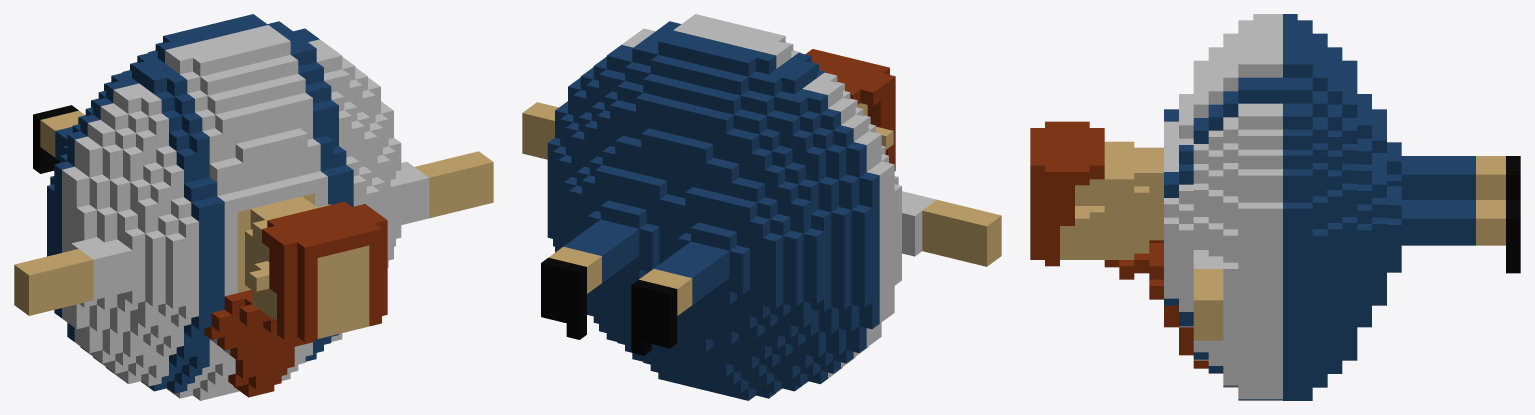
The model's file is bartender.fbx.
3 views of the same model, side by side, from view 1: azimuth 30°, elevation 25°; view 2: azimuth 150°, elevation 25°; view 3: azimuth 270°, elevation 25° (orthographic).
Visible parts, largest first — view 1: Cube.122; view 2: Cube.122; view 3: Cube.122.
Boxes of the visible parts, x1,y1,x2,y2 form: Cube.122: [14, 14, 493, 400]; Cube.122: [522, 14, 1001, 400]; Cube.122: [1030, 14, 1520, 400].
Size of the model in its own units: 127 by 88.39 by 117.
